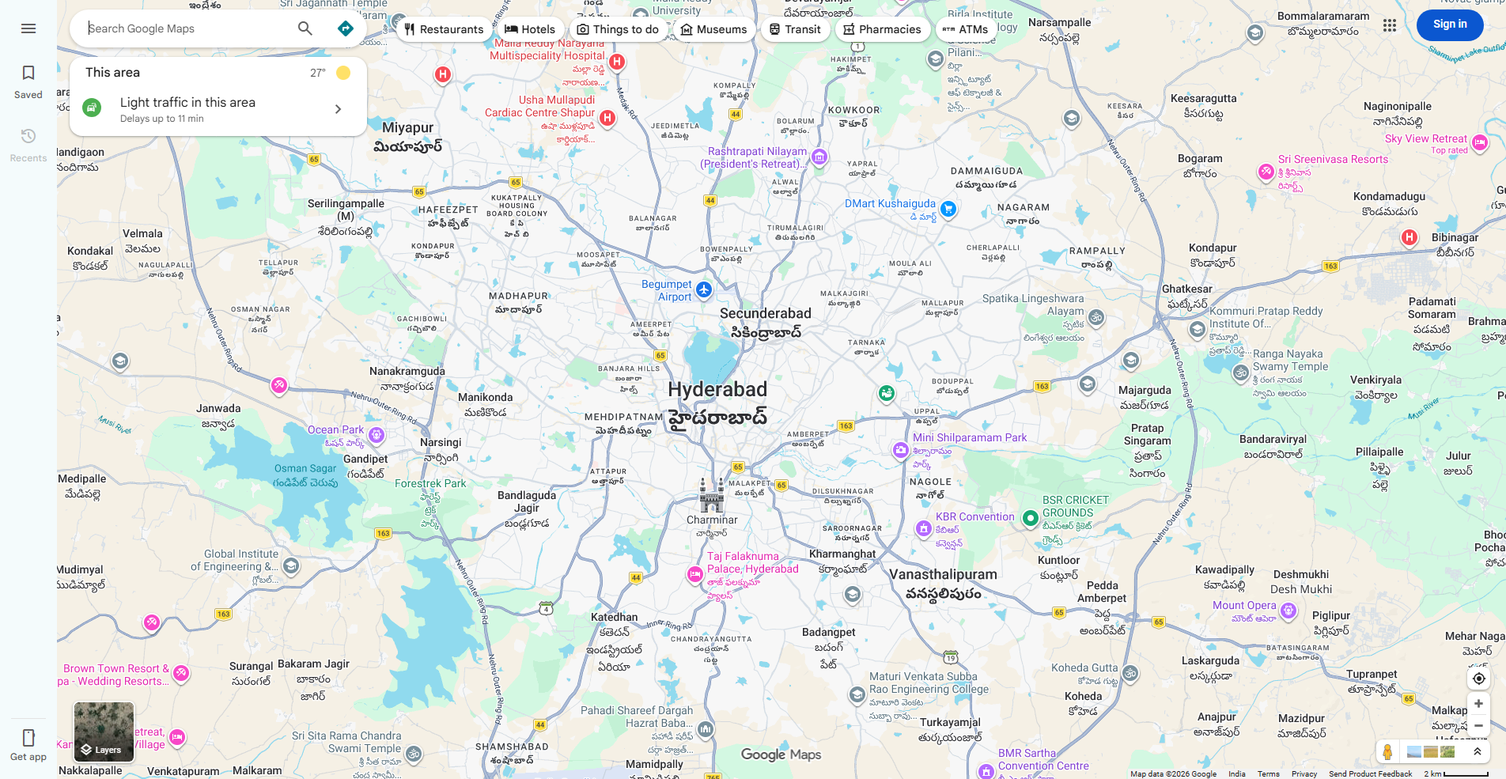button: (70, 89, 367, 130), (569, 10, 668, 48), (396, 10, 493, 48), (835, 10, 931, 48), (74, 702, 134, 762), (673, 10, 756, 48), (0, 117, 57, 168), (0, 54, 57, 104), (761, 10, 831, 48), (498, 10, 565, 48), (0, 722, 57, 766), (935, 10, 998, 48), (1401, 739, 1490, 763), (324, 9, 367, 47), (286, 9, 324, 51), (0, 13, 57, 41), (1374, 9, 1406, 41), (1329, 769, 1412, 779), (1424, 769, 1489, 779), (1407, 712, 1455, 725), (1376, 739, 1400, 763), (1407, 712, 1451, 725), (1467, 667, 1490, 690), (1467, 692, 1490, 715), (1467, 714, 1490, 737), (1376, 697, 1424, 708), (1292, 769, 1317, 779), (1258, 769, 1280, 779), (1228, 769, 1246, 779)
input: (89, 18, 283, 37)
label: (89, 18, 283, 39), (1401, 739, 1472, 763), (1376, 675, 1421, 697), (95, 745, 121, 756), (1407, 701, 1431, 712), (1424, 769, 1442, 779)
link: (1417, 9, 1484, 41)
